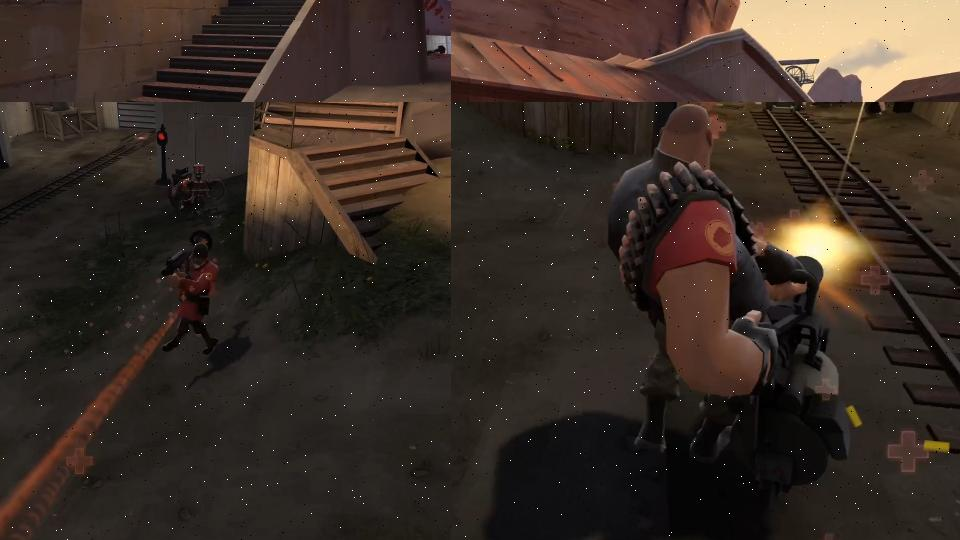Enemy: (605, 103, 839, 451), (157, 238, 222, 360)
